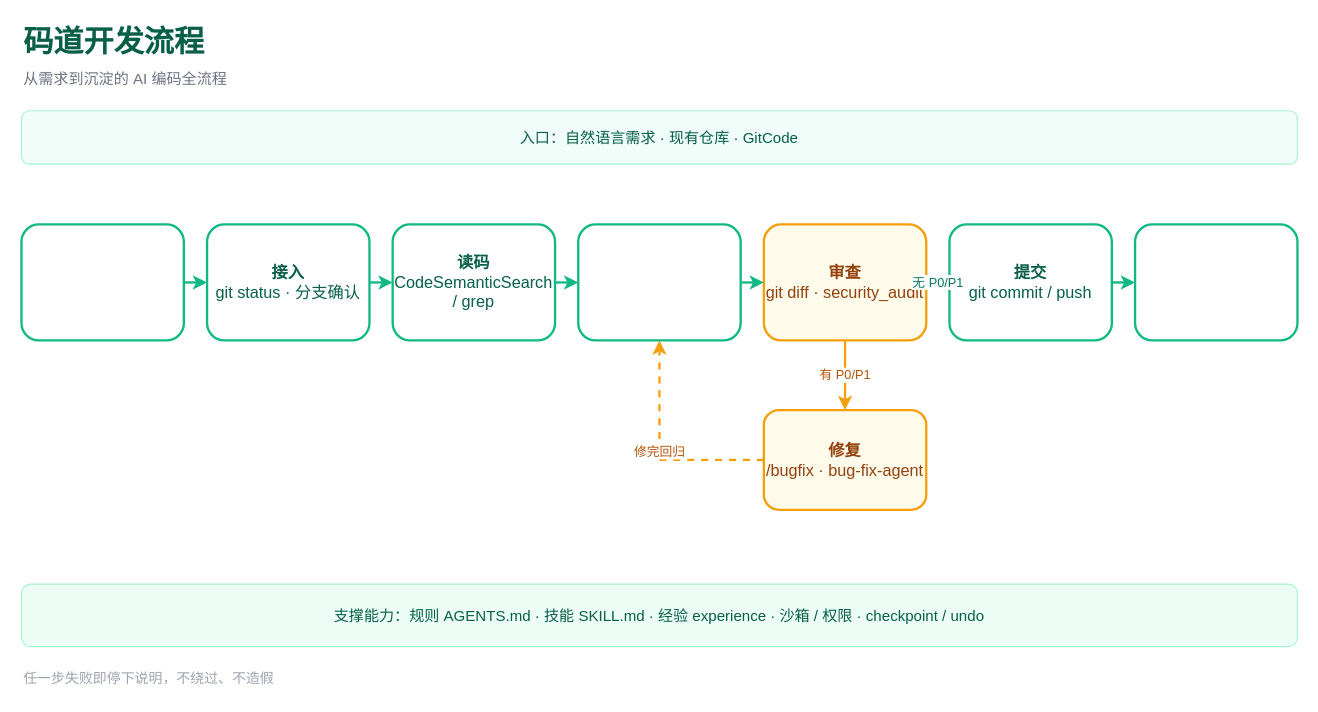
Image size: 1318x712. Some labels were removed from this diagram. The shapes that lost their labels are listed below. From the top down, each one's centre as x and y in pixels, then its label:
(102,282): 需求 用户目标 · 一句话
(659,282): 写测 developer-test-agent
(1215,282): 沉淀 experience / export
